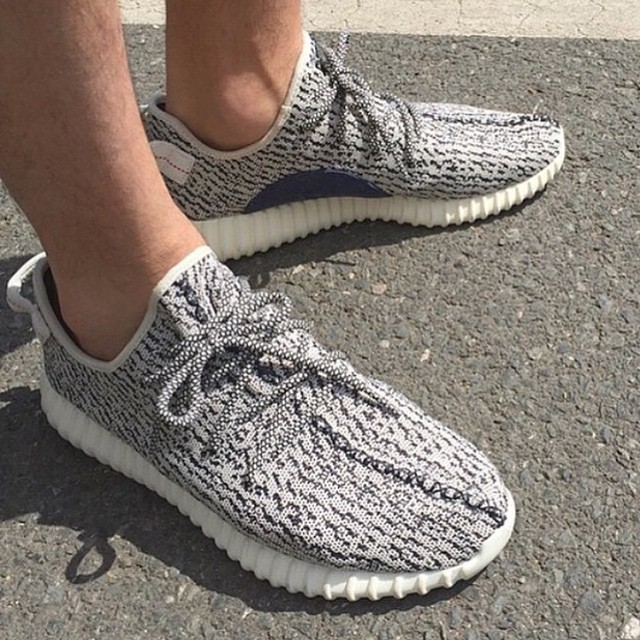sneaker: (1, 195, 547, 631), (105, 26, 587, 283)
